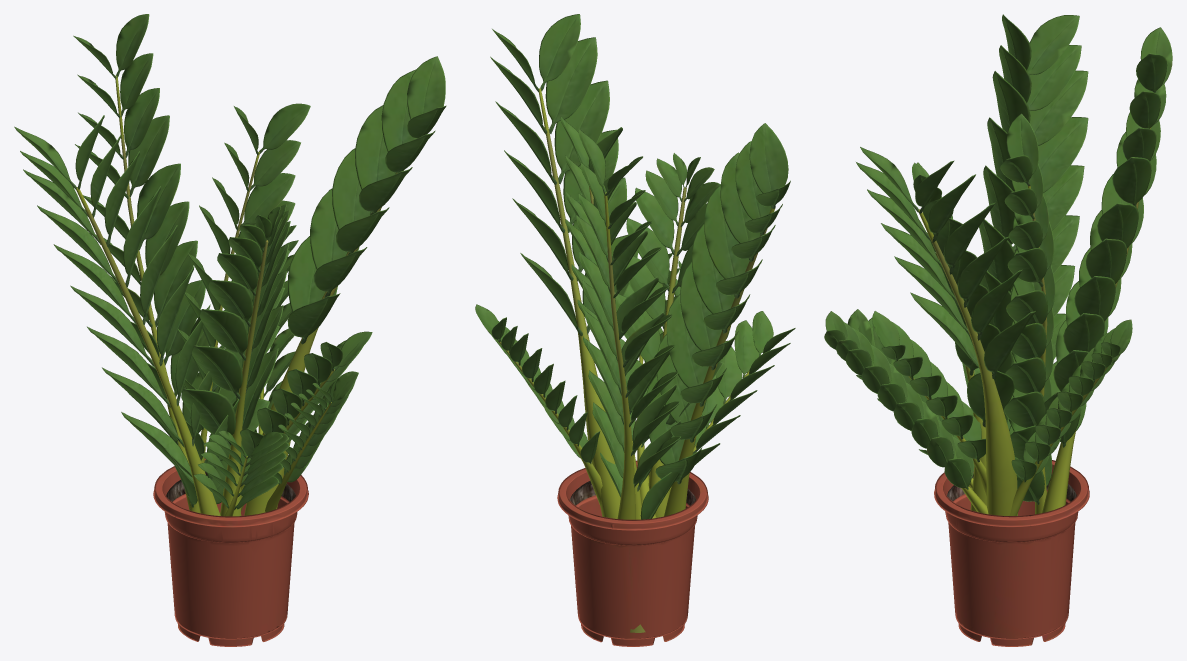
The model's file is zamioculcas_roslina_doniczkowa_50598681.glb.
3 views of the same model, side by side, from view 1: azimuth 30°, elevation 25°; view 2: azimuth 150°, elevation 25°; view 3: azimuth 270°, elevation 25° (orthographic). The views are drawn at different scales.
Parts seen in each view (by area): view 1: zamioculcas_roslina_doniczkowa_50598681; view 2: zamioculcas_roslina_doniczkowa_50598681; view 3: zamioculcas_roslina_doniczkowa_50598681.
Part boxes in pixels (x1,y1,x2,y2): zamioculcas_roslina_doniczkowa_50598681: (14, 14, 446, 646); zamioculcas_roslina_doniczkowa_50598681: (475, 14, 795, 646); zamioculcas_roslina_doniczkowa_50598681: (824, 14, 1172, 646).
Size of the model in its own units: 0.4744 by 0.7072 by 0.3956.
Materials: 1 (1 with a texture image).
